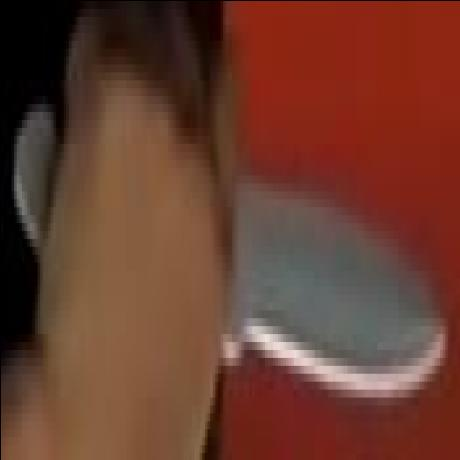weapon: (222, 144, 446, 410)
